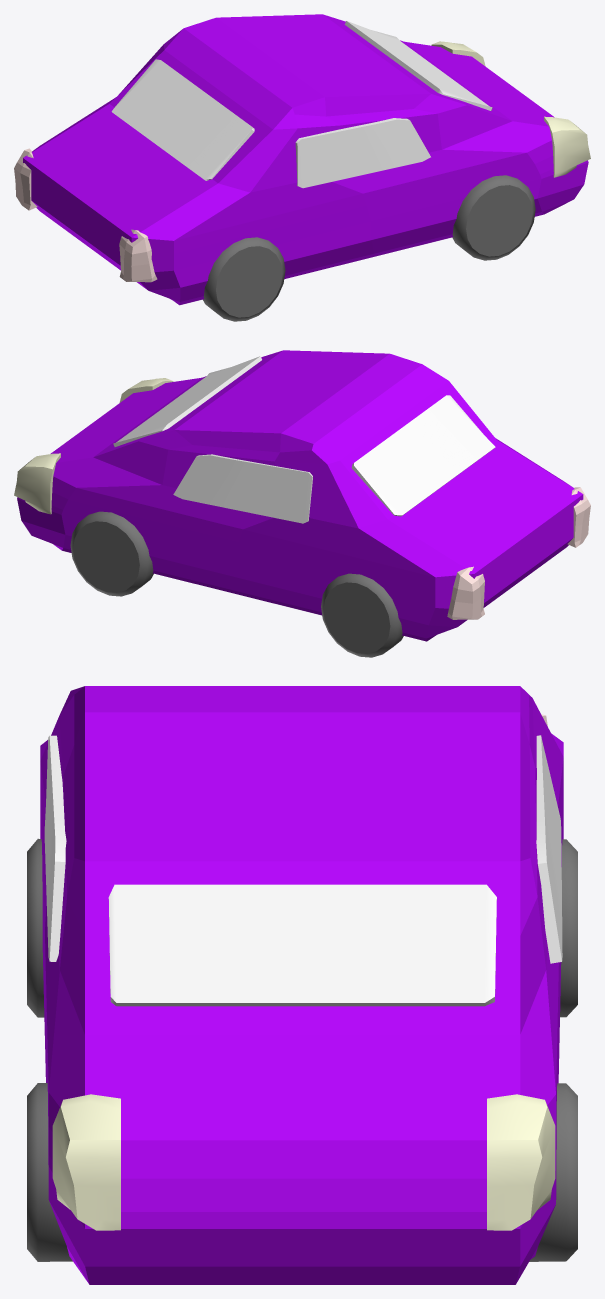
Rendered from CarroMorado.fbx.
3 renders of one model, top to bottom at view 1: azimuth 30°, elevation 25°; view 2: azimuth 150°, elevation 25°; view 3: azimuth 270°, elevation 25°, orthographic. The views are drawn at different scales.
Parts seen in each view (by area): view 1: pCube1, pCube10, pCube8, pCylinder1, pCylinder2, pCube6, pCube11, pCube9; view 2: pCube1, pCube10, pCube12, pCylinder3, pCylinder4, pCube6, pCube11, pCube9; view 3: pCube1, pCube6, pCube9, pCylinder1, pCylinder3, pCube12, pCube8, pCylinder4, pCylinder2.
Part boxes in pixels (<box>): pCube1: <box>23,14,588,305</box>; pCube10: <box>111,59,254,180</box>; pCube8: <box>295,118,430,188</box>; pCylinder1: <box>452,175,535,260</box>; pCylinder2: <box>203,237,285,321</box>; pCube6: <box>344,21,492,110</box>; pCube11: <box>14,148,157,282</box>; pCube9: <box>431,41,590,177</box>; pCube1: <box>17,350,583,641</box>; pCube10: <box>351,395,495,516</box>; pCube12: <box>173,454,312,523</box>; pCylinder3: <box>70,511,153,596</box>; pCylinder4: <box>321,573,403,657</box>; pCube6: <box>113,356,261,446</box>; pCube11: <box>447,487,590,619</box>; pCube9: <box>14,378,173,514</box>; pCube1: <box>40,686,563,1284</box>; pCube6: <box>108,884,496,1006</box>; pCube9: <box>52,1094,555,1230</box>; pCylinder1: <box>27,1083,72,1261</box>; pCylinder3: <box>529,1083,577,1261</box>; pCube12: <box>536,735,562,963</box>; pCube8: <box>44,735,66,961</box>; pCylinder4: <box>560,839,577,1017</box>; pCylinder2: <box>27,838,44,1017</box>.
Size of the model in its own units: 21.52 by 8.56 by 11.09.
